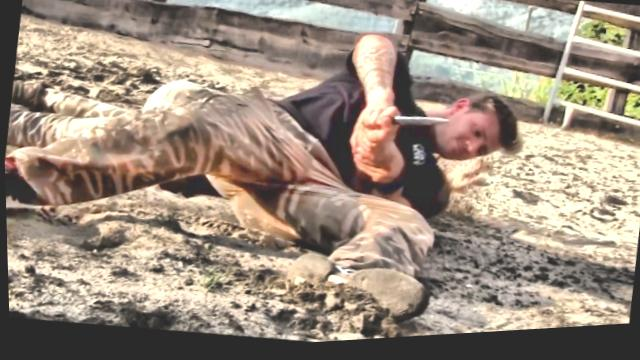knife: (359, 98, 456, 147)
